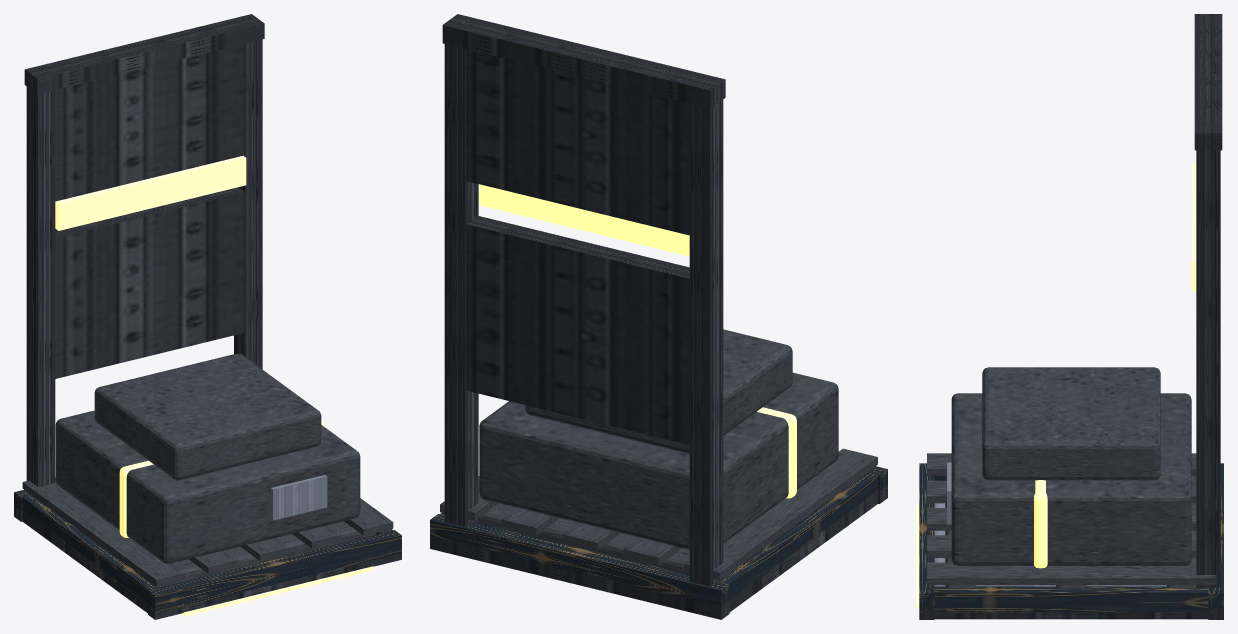
Rendered from warehouse_pallet.glb.
3 renders of one model, left to right at view 1: azimuth 30°, elevation 25°; view 2: azimuth 150°, elevation 25°; view 3: azimuth 270°, elevation 25°, orthographic. The views are drawn at different scales.
Visible parts, largest first — view 1: sight_shell, carton0, carton1, shelltoe0, sightglow, slat0, shelltoes0, shellrim0, label, runner0, shellrims0, shellglow (+5 smaller); view 2: sight_shell, carton0, shelltoe2, carton1, slat0, sightglow, shelltoes0, shellrim2, runner2, shellrims0, slat1, slat2 (+2 smaller); view 3: carton0, carton1, sight_shell, shelltoes2, slat4, shellrims2, shelltoe0, strap, shelltoe2, sightglow, slat3, slat0 (+3 smaller).
Part boxes in pixels (box(x1,y1,x2,y2)): sight_shell: box(24, 14, 264, 486); carton0: box(55, 410, 360, 563); carton1: box(94, 353, 321, 480); shelltoe0: box(148, 530, 401, 613); sightglow: box(55, 155, 246, 230); slat0: box(22, 477, 185, 586); shelltoes0: box(20, 493, 160, 606); shellrim0: box(148, 548, 401, 619); label: box(271, 475, 327, 520); runner0: box(141, 521, 375, 586); shellrims0: box(22, 510, 147, 613); shellglow: box(183, 566, 374, 616); sight_shell: box(442, 14, 725, 586); carton0: box(479, 372, 838, 549); shelltoe2: box(430, 514, 729, 610); carton1: box(525, 329, 792, 453); slat0: box(684, 448, 877, 580); sightglow: box(479, 184, 689, 256); shelltoes0: box(717, 472, 879, 599); shellrim2: box(430, 535, 729, 619); runner2: box(478, 503, 737, 575); shellrims0: box(729, 490, 877, 611); slat1: box(623, 537, 681, 565); slat2: box(562, 522, 620, 550); carton0: box(951, 393, 1191, 565); carton1: box(982, 367, 1160, 480); sight_shell: box(1194, 14, 1222, 587); shelltoes2: box(934, 586, 1208, 612); slat4: box(927, 562, 1216, 585); shellrims2: box(934, 606, 1208, 619); shelltoe0: box(919, 463, 934, 612); strap: box(1033, 480, 1047, 568); shelltoe2: box(1208, 463, 1223, 612); sightglow: box(1191, 163, 1196, 291); slat3: box(927, 535, 1196, 557); slat0: box(927, 453, 1196, 475).
Size of the model in its own units: 1 by 1.74 by 1.
Materials: 8 (6 with a texture image).
